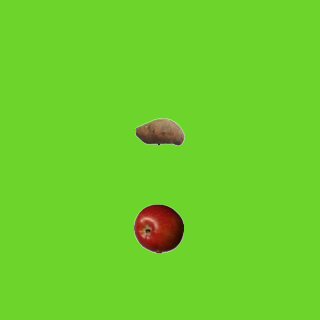Apple Braeburn: (133, 203, 183, 253)
Potato Sweet: (134, 106, 184, 156)
